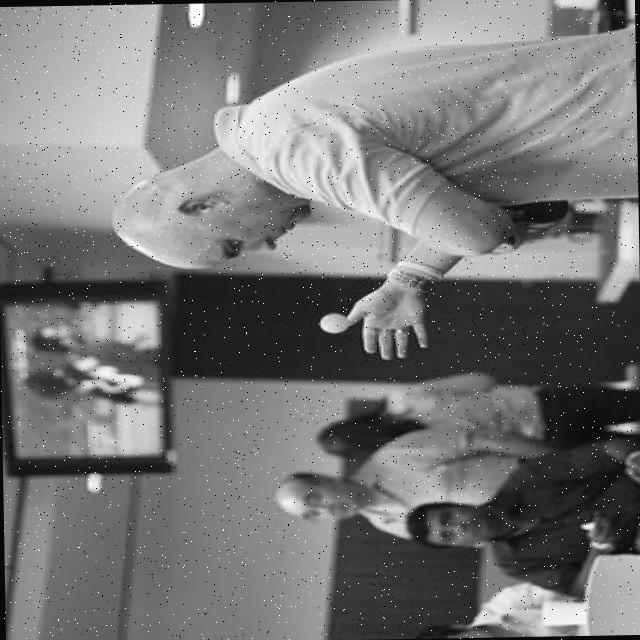ping-pong-ball: (318, 310, 352, 334)
